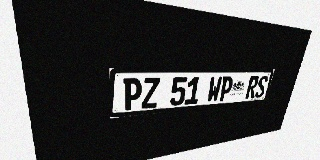1: (184, 77, 201, 105)
5: (170, 77, 187, 106)
P: (123, 78, 142, 111), (218, 76, 234, 101)
R: (245, 76, 260, 99)
S: (254, 76, 269, 98)
W: (206, 76, 223, 103)
Z: (141, 78, 160, 109)
